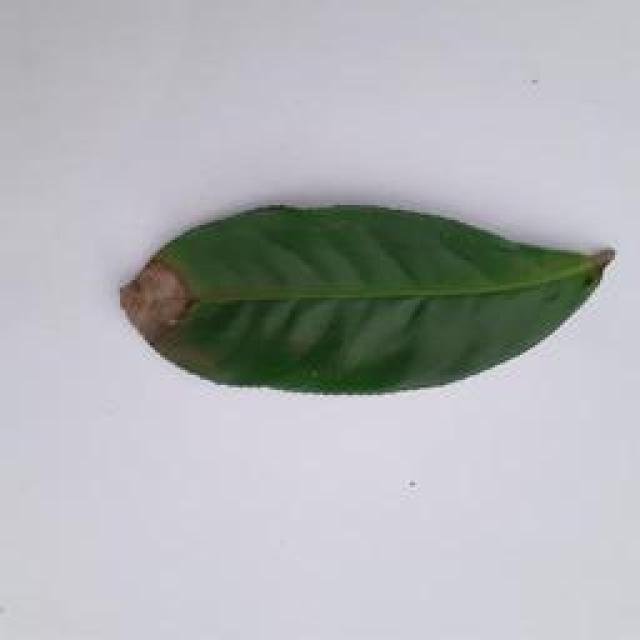Gray Blight: (95, 196, 622, 403)
